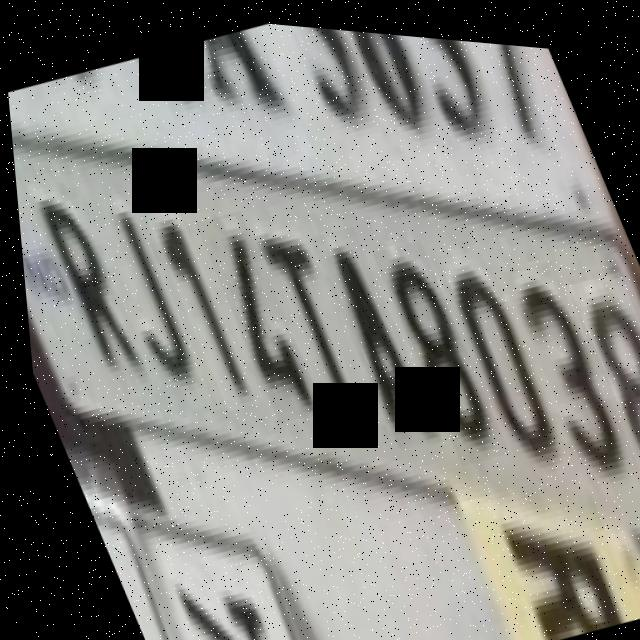0: (427, 232, 564, 463)
1: (141, 201, 253, 410)
3: (496, 246, 633, 475)
4: (190, 203, 319, 422)
8: (367, 229, 503, 461), (562, 256, 640, 499)
A: (305, 216, 436, 446)
J: (79, 189, 199, 387)
R: (25, 178, 141, 379)
T: (242, 201, 376, 438)
